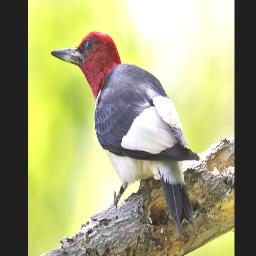Woodpecker: (52, 33, 199, 237)
